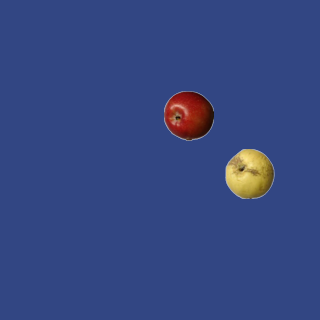Apple Braeburn: (163, 90, 213, 140)
Apple Golden 1: (224, 148, 274, 198)
